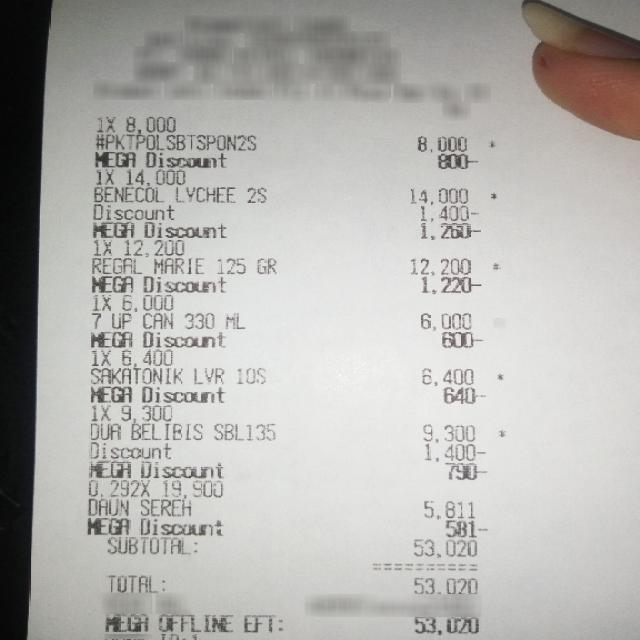kertas: (28, 0, 638, 640)
